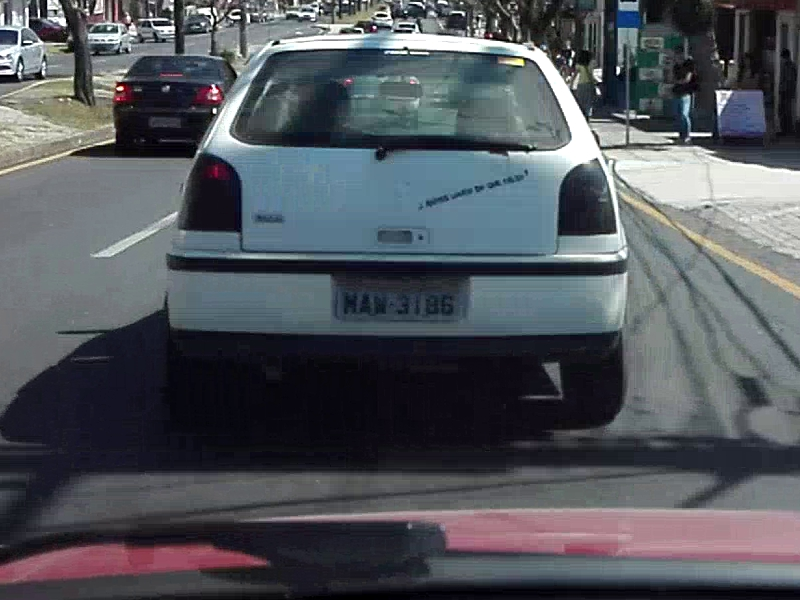placa: (336, 280, 464, 320)
